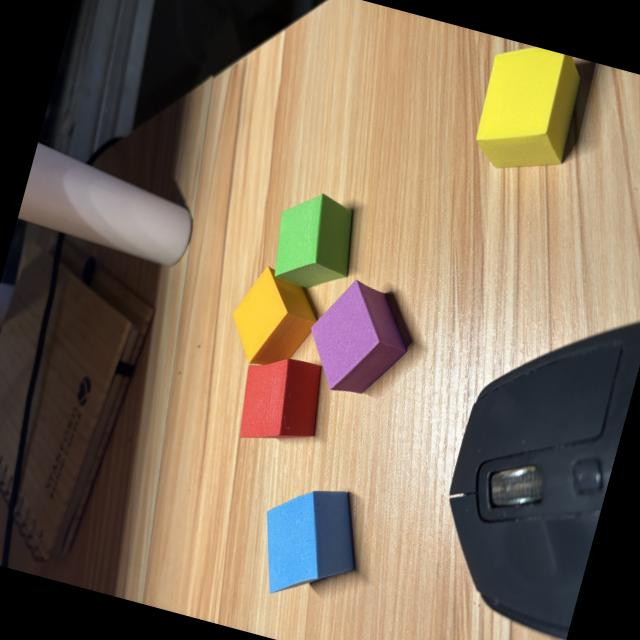bluecube: (266, 490, 353, 592)
greencube: (273, 193, 350, 287)
orangecube: (232, 267, 315, 364)
purplecube: (310, 280, 405, 393)
redcube: (239, 359, 319, 437)
yellowcube: (475, 46, 579, 167)
